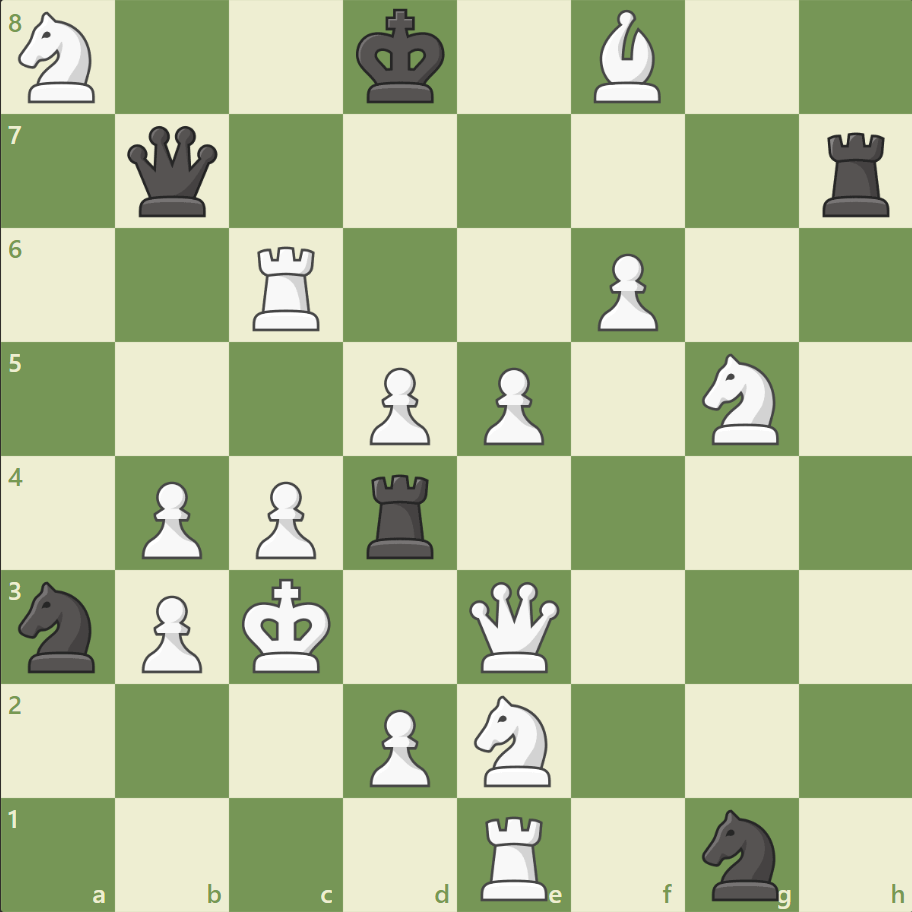B: (585, 6, 669, 109)
K: (238, 571, 338, 679)
N: (11, 7, 108, 110), (465, 688, 562, 791), (692, 348, 789, 450)
P: (474, 359, 549, 450), (133, 473, 208, 564), (247, 473, 322, 564), (133, 586, 208, 677), (588, 246, 662, 337), (361, 359, 435, 450), (361, 700, 435, 791)
Q: (464, 576, 563, 676)
R: (473, 806, 556, 904), (246, 239, 329, 336)
k: (351, 4, 451, 112)
n: (11, 575, 108, 677), (692, 802, 789, 904)
q: (124, 122, 223, 222)
r: (814, 125, 897, 222), (360, 466, 442, 563)
